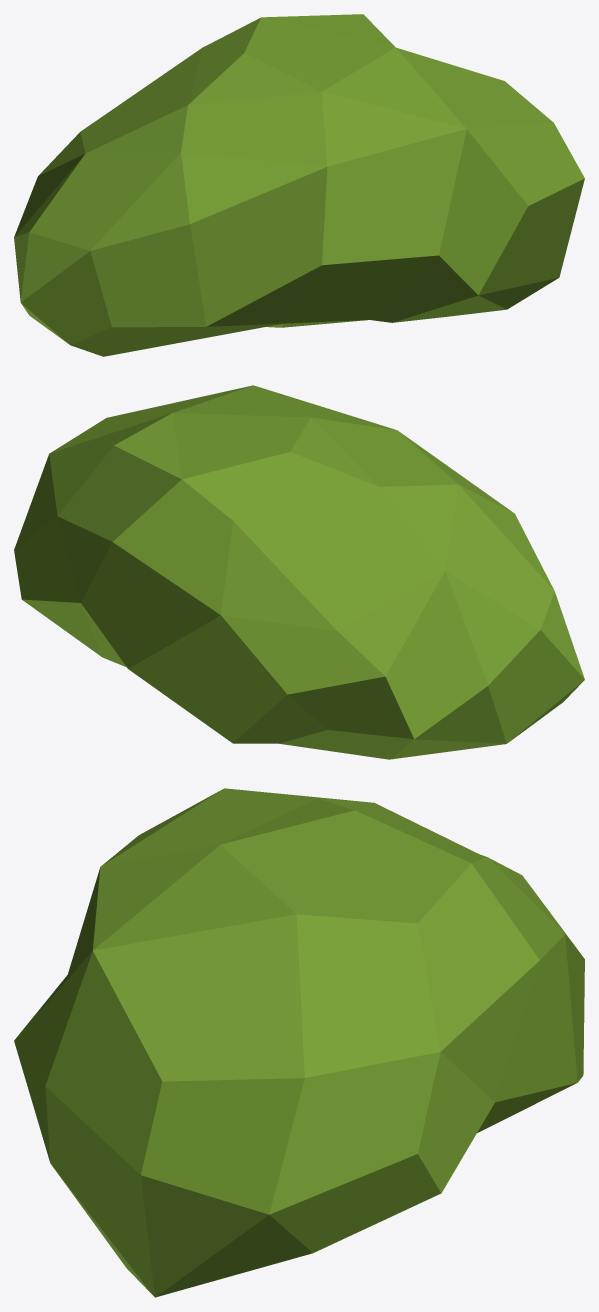
The model's file is bush.glb.
3 views of the same model, one above another, from view 1: azimuth 30°, elevation 25°; view 2: azimuth 150°, elevation 25°; view 3: azimuth 270°, elevation 25° (orthographic). The views are drawn at different scales.
Visible parts, largest first — view 1: bush; view 2: bush; view 3: bush.
Boxes of the visible parts, <box> form: bush: <box>14,14,584,356</box>; bush: <box>14,385,584,759</box>; bush: <box>14,788,584,1297</box>.
Size of the model in its own units: 6.62 by 3.1 by 4.58.
Materials: 1 (1 with a texture image).
